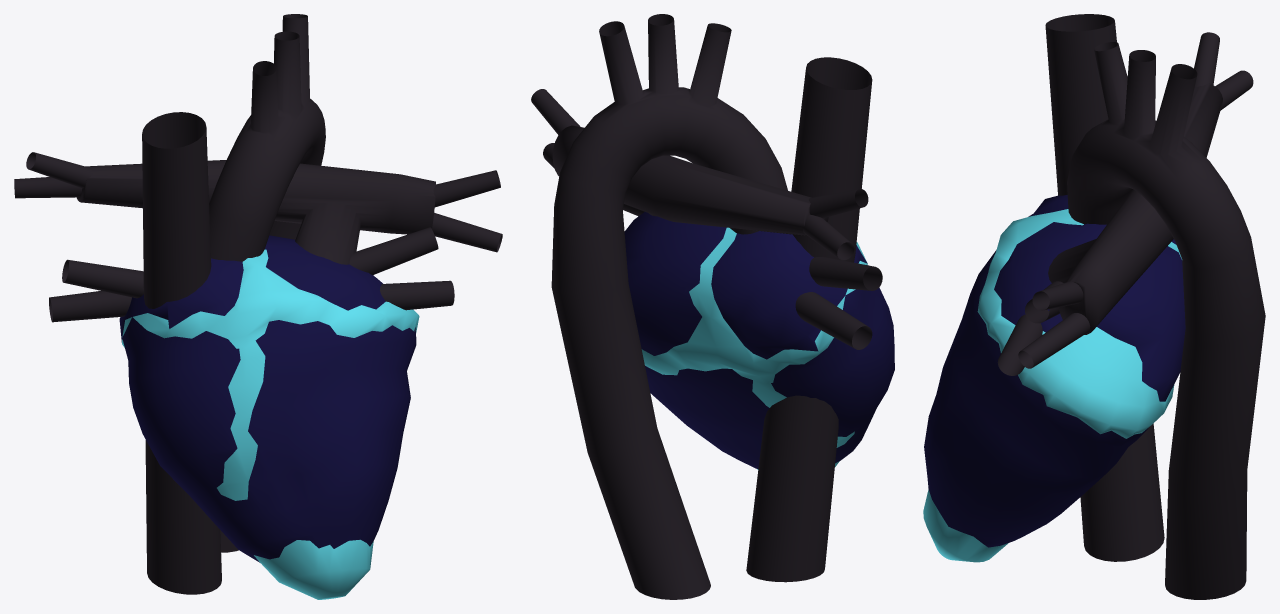
Rendered from heart.dae.
3 views of the same model, side by side, from view 1: azimuth 30°, elevation 25°; view 2: azimuth 150°, elevation 25°; view 3: azimuth 270°, elevation 25° (orthographic). The views are drawn at different scales.
Parts seen in each view (by area): view 1: ID43, group_5, ID129, ID123, ID37, ID29, ID49, group_7 (×2), group_8 (×2), ID57, group_3, ID13 (+2 smaller); view 2: ID129, group_5, ID43, ID57, ID123, ID49, ID37, group_8, group_7, ID117, group_11, ID13; view 3: ID129, ID43, group_5, ID37, ID49, ID123, ID29, group_3, group_8, group_11, ID13, ID117 (+2 smaller).
Boxes of the visible parts, x1,y1,x2,y2 form: ID43: (122, 317, 416, 562); group_5: (142, 112, 221, 594); ID129: (209, 14, 325, 552); ID123: (76, 160, 435, 264); ID37: (122, 249, 419, 500); ID29: (254, 539, 373, 599); ID49: (265, 235, 385, 310); group_7 (×2): (62, 227, 438, 298); group_8 (×2): (49, 280, 454, 322); ID57: (119, 258, 243, 342); group_3: (432, 212, 502, 252); ID13: (433, 170, 500, 207); ID129: (551, 14, 787, 599); group_5: (746, 57, 872, 582); ID43: (645, 287, 894, 468); ID57: (711, 231, 867, 359); ID123: (552, 125, 828, 235); ID49: (624, 212, 726, 355); ID37: (641, 227, 867, 447); group_8: (795, 292, 872, 349); group_7: (809, 257, 882, 290); ID117: (803, 214, 854, 260); group_11: (808, 188, 868, 218); ID13: (531, 89, 580, 134); ID129: (1067, 42, 1265, 599); ID43: (924, 250, 1148, 547); group_5: (1045, 14, 1164, 561); ID37: (977, 209, 1182, 438); ID49: (994, 222, 1185, 401); ID123: (1048, 83, 1222, 334); ID29: (923, 489, 1008, 562); group_3: (1018, 313, 1090, 368); group_8: (997, 314, 1042, 375); group_11: (1194, 32, 1219, 86); ID13: (1032, 281, 1083, 310); ID117: (1215, 70, 1253, 110).
Bounding box in the file's own units: 7.92 × 9.8 × 5.51.
